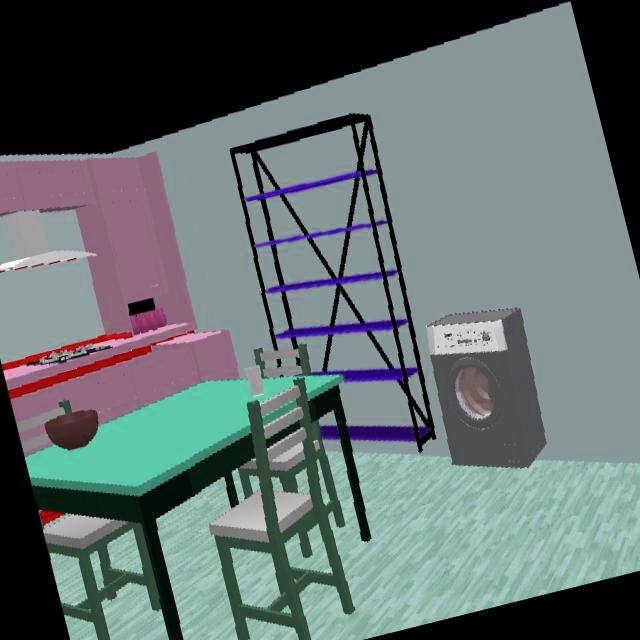chair: (210, 387, 357, 640), (42, 515, 161, 640), (254, 344, 314, 377)
countertop: (3, 323, 240, 399)
shelf: (229, 113, 436, 455)
stove: (1, 332, 132, 372)
table: (24, 380, 256, 640)
